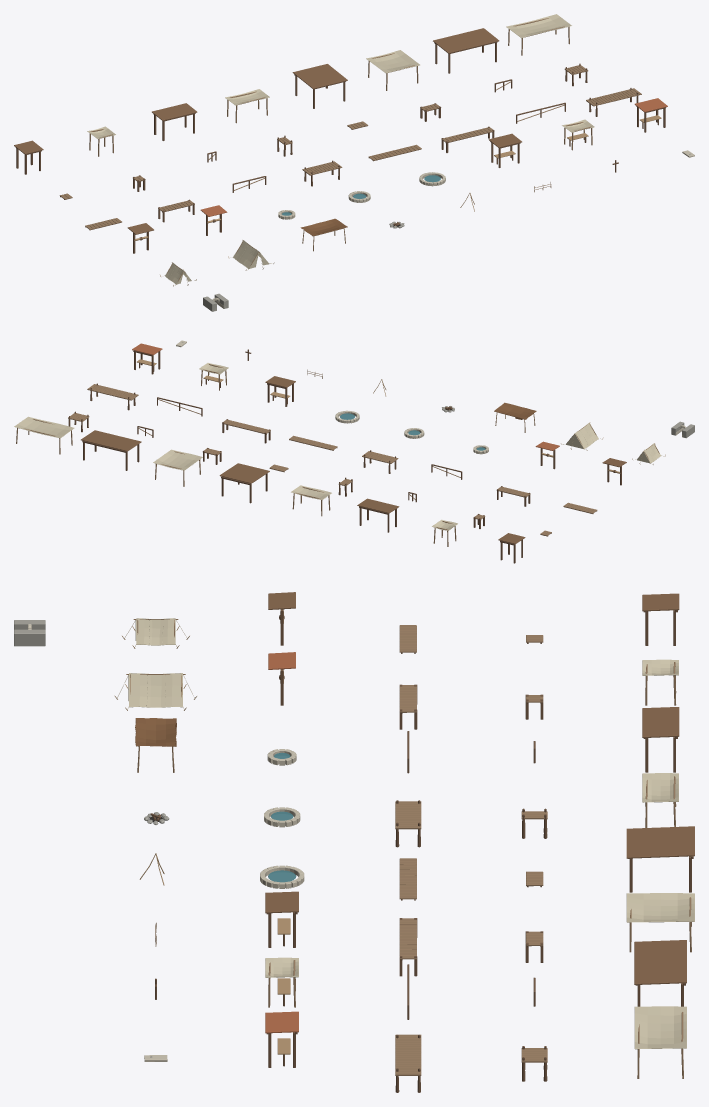
Rendered from siteworks.glb.
3 renders of one model, top to bottom at view 1: azimuth 30°, elevation 25°; view 2: azimuth 150°, elevation 25°; view 3: azimuth 270°, elevation 25°, orthographic. The views are drawn at different scales.
Visible parts, largest first — view 1: GK_site_canopy_timber_6m_d3m, GK_site_canopy_timber_4m_d4m, GK_site_canopy_canvas_6m_d3m, GK_site_canopy_canvas_4m_d4m, GK_site_canopy_timber_4m_d2m, GK_site_market_stall_shingle, GK_site_market_stall_tile, GK_site_tent_a_frame_large, GK_site_hunter_hide_fly_4m_d2m, GK_site_dock_segment_6m, GK_site_canopy_canvas_4m_d2m, GK_site_market_stall_canvas; view 2: GK_site_canopy_timber_6m_d3m, GK_site_canopy_timber_4m_d4m, GK_site_canopy_canvas_6m_d3m, GK_site_canopy_canvas_4m_d4m, GK_site_canopy_timber_4m_d2m, GK_site_tent_a_frame_large, GK_site_market_stall_tile, GK_site_market_stall_shingle, GK_site_hunter_hide_fly_4m_d2m, GK_site_dock_segment_6m, GK_site_canopy_canvas_4m_d2m, GK_site_market_stall_canvas (+2 smaller); view 3: GK_site_canopy_timber_6m_d3m, GK_site_canopy_canvas_6m_d3m, GK_site_canopy_timber_4m_d4m, GK_site_canopy_canvas_4m_d4m, GK_site_tent_a_frame_large, GK_site_canopy_timber_4m_d2m, GK_site_hunter_hide_fly_4m_d2m, GK_site_dock_segment_6m, GK_site_market_stall_shingle, GK_site_market_stall_tile, GK_site_canopy_canvas_4m_d2m, GK_site_tent_a_frame_small (+8 smaller).
Boxes of the visible parts, left/top/right/bottom form: GK_site_canopy_timber_6m_d3m: left=433, top=28, right=499, bottom=73; GK_site_canopy_timber_4m_d4m: left=292, top=64, right=347, bottom=108; GK_site_canopy_canvas_6m_d3m: left=506, top=14, right=571, bottom=55; GK_site_canopy_canvas_4m_d4m: left=366, top=50, right=420, bottom=90; GK_site_canopy_timber_4m_d2m: left=152, top=103, right=197, bottom=140; GK_site_market_stall_shingle: left=488, top=133, right=521, bottom=167; GK_site_market_stall_tile: left=634, top=98, right=667, bottom=132; GK_site_tent_a_frame_large: left=228, top=240, right=274, bottom=270; GK_site_hunter_hide_fly_4m_d2m: left=300, top=218, right=347, bottom=251; GK_site_dock_segment_6m: left=586, top=88, right=641, bottom=116; GK_site_canopy_canvas_4m_d2m: left=225, top=89, right=269, bottom=123; GK_site_market_stall_canvas: left=562, top=119, right=594, bottom=150; GK_site_canopy_timber_6m_d3m: left=81, top=430, right=141, bottom=470; GK_site_canopy_timber_4m_d4m: left=219, top=463, right=269, bottom=503; GK_site_canopy_canvas_6m_d3m: left=14, top=416, right=74, bottom=454; GK_site_canopy_canvas_4m_d4m: left=153, top=449, right=202, bottom=486; GK_site_canopy_timber_4m_d2m: left=357, top=498, right=399, bottom=532; GK_site_tent_a_frame_large: left=561, top=422, right=603, bottom=450; GK_site_market_stall_tile: left=132, top=343, right=162, bottom=374; GK_site_market_stall_shingle: left=265, top=376, right=295, bottom=406; GK_site_hunter_hide_fly_4m_d2m: left=494, top=402, right=536, bottom=432; GK_site_dock_segment_6m: left=87, top=383, right=138, bottom=410; GK_site_canopy_canvas_4m_d2m: left=291, top=485, right=331, bottom=516; GK_site_market_stall_canvas: left=199, top=363, right=228, bottom=390; GK_site_canopy_timber_6m_d3m: left=634, top=940, right=686, bottom=1006; GK_site_canopy_canvas_6m_d3m: left=634, top=1006, right=686, bottom=1078; GK_site_canopy_timber_4m_d4m: left=626, top=826, right=694, bottom=892; GK_site_canopy_canvas_4m_d4m: left=626, top=893, right=694, bottom=952; GK_site_tent_a_frame_large: left=114, top=673, right=196, bottom=710; GK_site_canopy_timber_4m_d2m: left=642, top=707, right=679, bottom=772; GK_site_hunter_hide_fly_4m_d2m: left=135, top=718, right=176, bottom=772; GK_site_dock_segment_6m: left=395, top=1034, right=421, bottom=1092; GK_site_market_stall_shingle: left=265, top=891, right=298, bottom=947; GK_site_market_stall_tile: left=265, top=1011, right=298, bottom=1067; GK_site_canopy_canvas_4m_d2m: left=642, top=773, right=678, bottom=827; GK_site_tent_a_frame_small: left=122, top=618, right=189, bottom=648.
Size of the model in its own units: 68.15 by 4 by 43.17.
